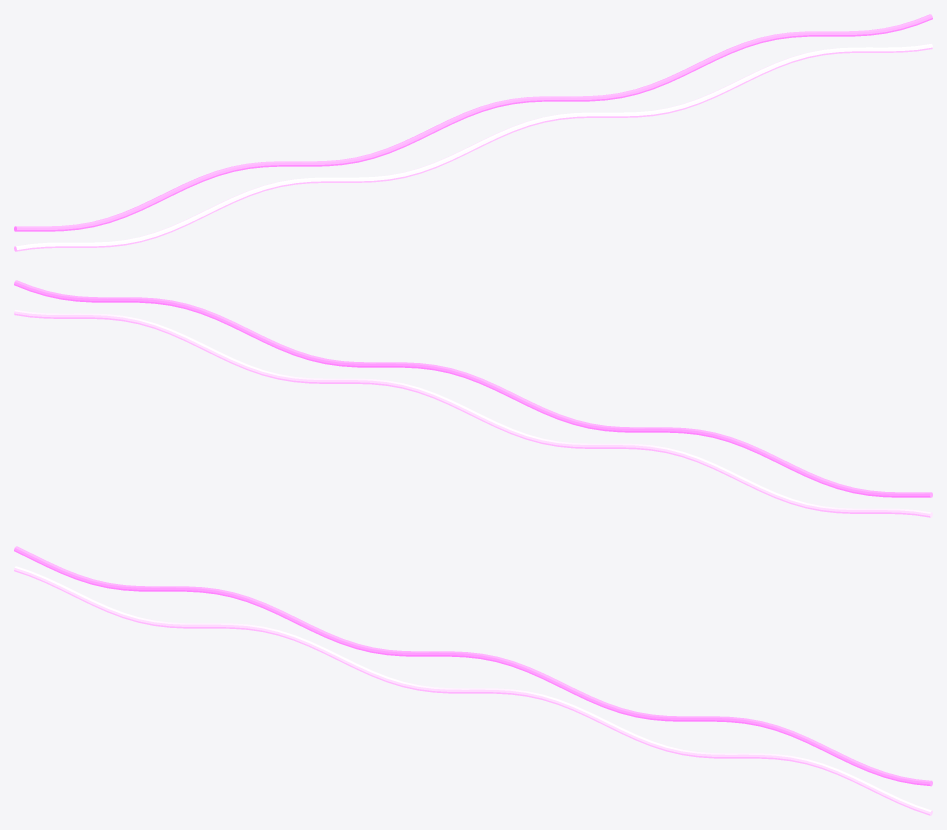
The model's file is arcade_neon_wave.glb.
The picture shows the model from 3 angles, top to bottom: view 1: azimuth 30°, elevation 25°; view 2: azimuth 150°, elevation 25°; view 3: azimuth 330°, elevation 25°; orthographic projection.
Parts seen in each view (by area): view 1: Wave.001, Wave; view 2: Wave.001, Wave; view 3: Wave, Wave.001.
Part boxes in pixels (<box>): Wave.001: <box>14,14,932,231</box>; Wave: <box>14,43,932,251</box>; Wave.001: <box>14,280,932,497</box>; Wave: <box>14,309,932,517</box>; Wave: <box>14,566,932,815</box>; Wave.001: <box>14,546,932,786</box>.
Size of the model in its own units: 7.21 by 0.4 by 0.04.
